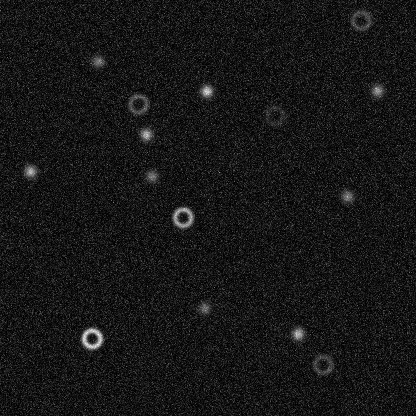Ring: (126, 92, 150, 116), (348, 8, 372, 32), (79, 326, 103, 350), (310, 352, 334, 376), (170, 205, 194, 229), (262, 103, 286, 127)
Spot: (89, 53, 105, 69), (198, 82, 214, 98), (339, 188, 355, 204), (22, 163, 38, 179), (138, 126, 154, 142), (289, 325, 305, 341), (196, 299, 212, 315), (143, 168, 159, 184), (369, 82, 385, 98)
